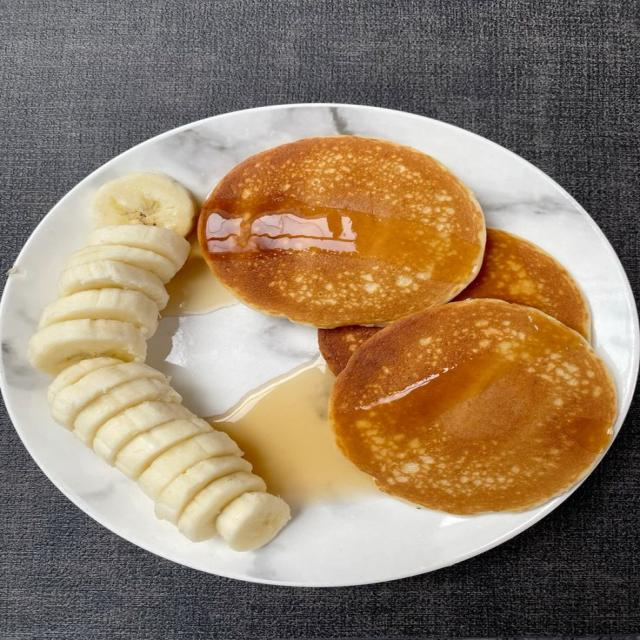banana slice: (138, 429, 251, 500), (53, 363, 170, 429), (74, 378, 181, 448), (93, 401, 210, 464), (177, 472, 276, 541), (91, 172, 197, 236), (30, 319, 146, 376), (156, 455, 250, 523), (38, 288, 158, 339), (117, 419, 213, 479), (58, 260, 168, 312), (89, 224, 190, 269), (217, 492, 290, 551), (47, 357, 138, 404), (69, 244, 177, 282), (222, 435, 239, 452), (143, 364, 163, 377)
pancake: (330, 299, 615, 514), (199, 137, 485, 326), (456, 229, 590, 339), (318, 326, 380, 375)
